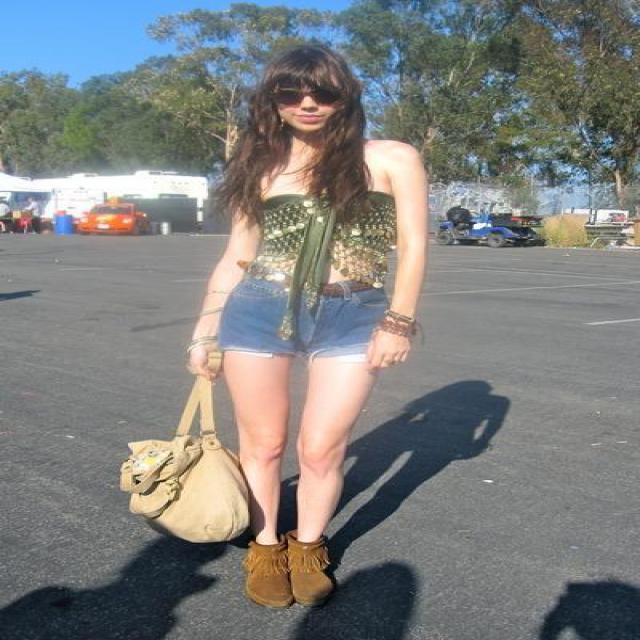bag: (120, 357, 246, 541)
shirt: (237, 181, 397, 306)
shoe: (243, 529, 330, 606)
shorts: (212, 276, 390, 358)
sunglass: (261, 73, 363, 114)
